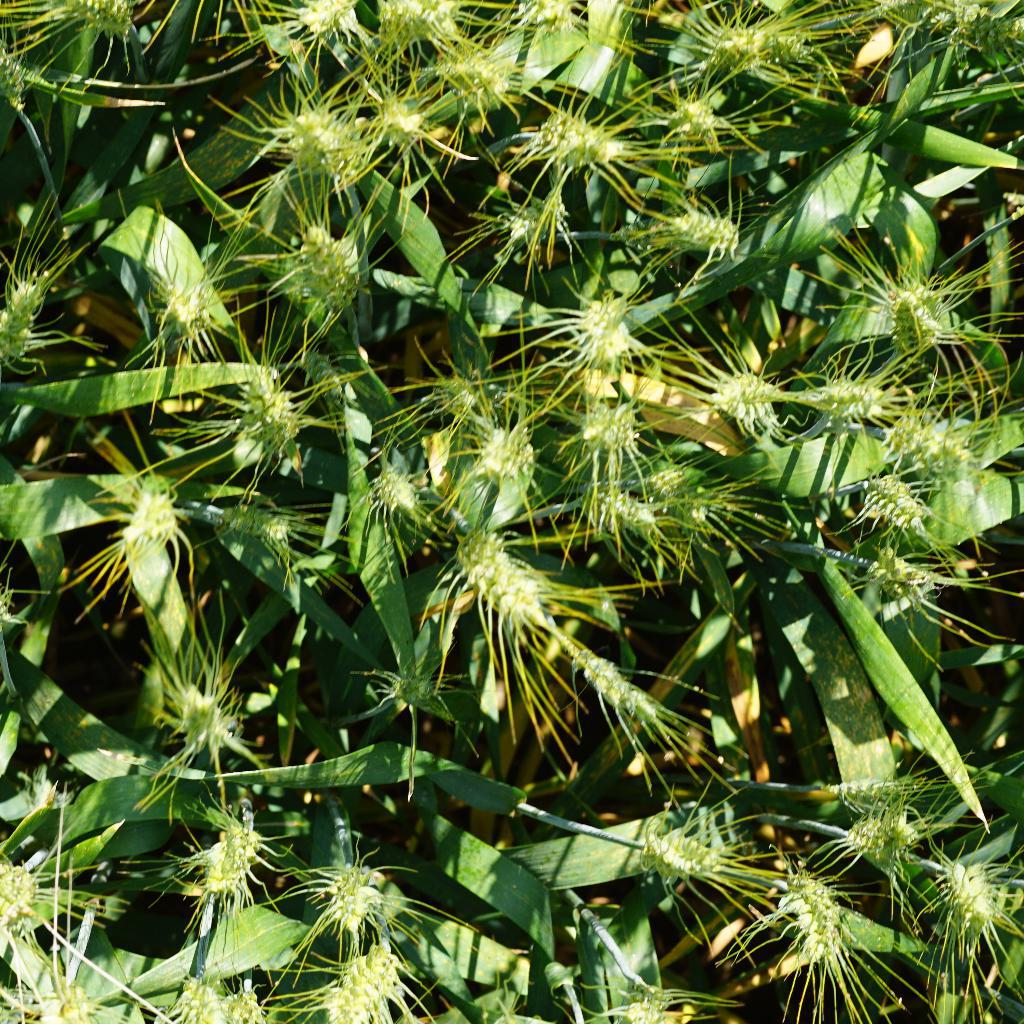0-0: (455, 522, 561, 634), (582, 647, 692, 740), (277, 213, 369, 320), (549, 281, 653, 372), (100, 470, 191, 565), (761, 862, 855, 953), (879, 262, 963, 363), (863, 542, 963, 621), (836, 761, 963, 822), (189, 811, 272, 903), (318, 946, 414, 1024), (642, 193, 746, 264), (651, 460, 750, 533), (152, 666, 240, 747), (523, 97, 623, 168), (702, 357, 789, 436), (311, 863, 400, 938), (948, 858, 1012, 961), (273, 107, 362, 180), (888, 406, 974, 481), (844, 800, 927, 877), (149, 269, 231, 346), (367, 90, 449, 165), (852, 466, 934, 537), (656, 815, 732, 890), (171, 963, 264, 1024), (230, 369, 299, 451), (571, 389, 651, 453), (601, 478, 673, 548), (467, 422, 546, 484), (666, 94, 743, 157), (444, 45, 522, 107), (374, 0, 474, 48), (0, 269, 47, 369), (496, 201, 574, 260), (366, 460, 432, 527), (214, 499, 297, 552), (815, 369, 888, 428), (30, 970, 108, 1024), (743, 23, 828, 72), (705, 15, 770, 75), (376, 659, 444, 715), (287, 0, 370, 44), (0, 33, 45, 114), (949, 16, 1024, 64), (56, 0, 157, 33), (430, 362, 492, 415), (294, 347, 346, 410)
